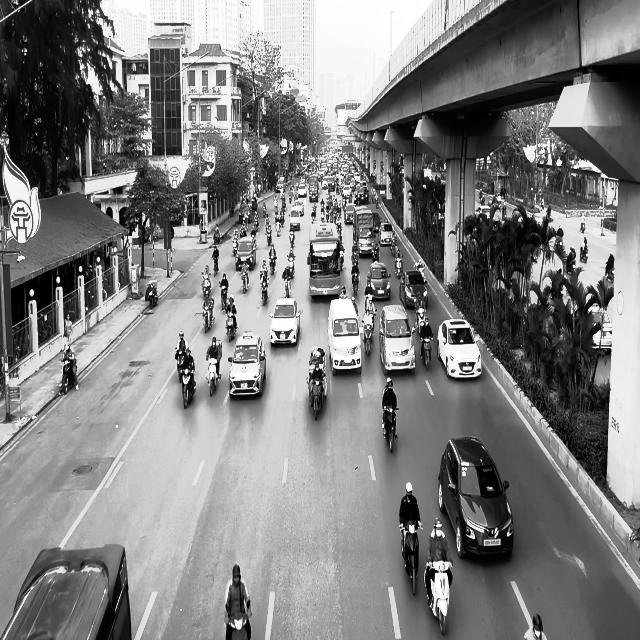bus: (308, 221, 342, 298)
car: (1, 543, 132, 639), (437, 435, 514, 559), (436, 318, 482, 380), (327, 298, 362, 375), (227, 331, 266, 398), (379, 304, 416, 374), (268, 298, 300, 346), (399, 269, 428, 309), (366, 261, 391, 300), (235, 237, 256, 271)
motorbike: (424, 560, 452, 635), (400, 520, 422, 595), (306, 368, 326, 420), (382, 405, 398, 453), (206, 356, 222, 396), (419, 334, 433, 370), (202, 298, 214, 333), (225, 310, 237, 342), (146, 280, 158, 308), (240, 268, 249, 294), (260, 276, 268, 305), (605, 262, 614, 282), (580, 241, 588, 263), (212, 255, 219, 277)
